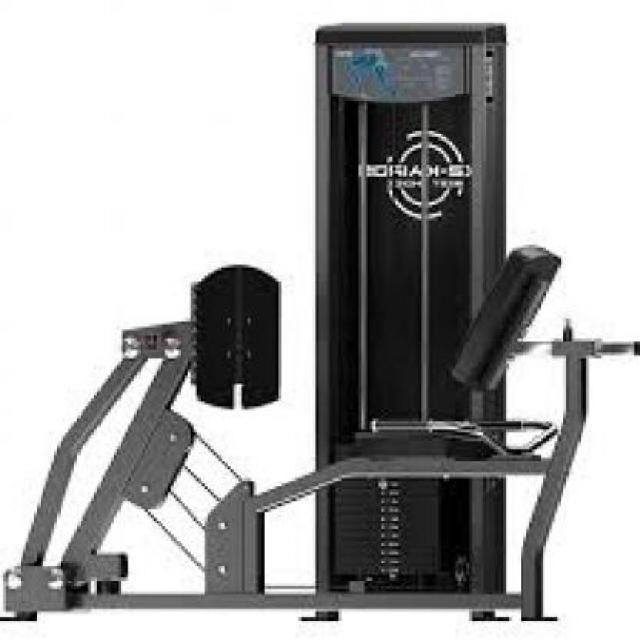leg press: (0, 17, 640, 640)
